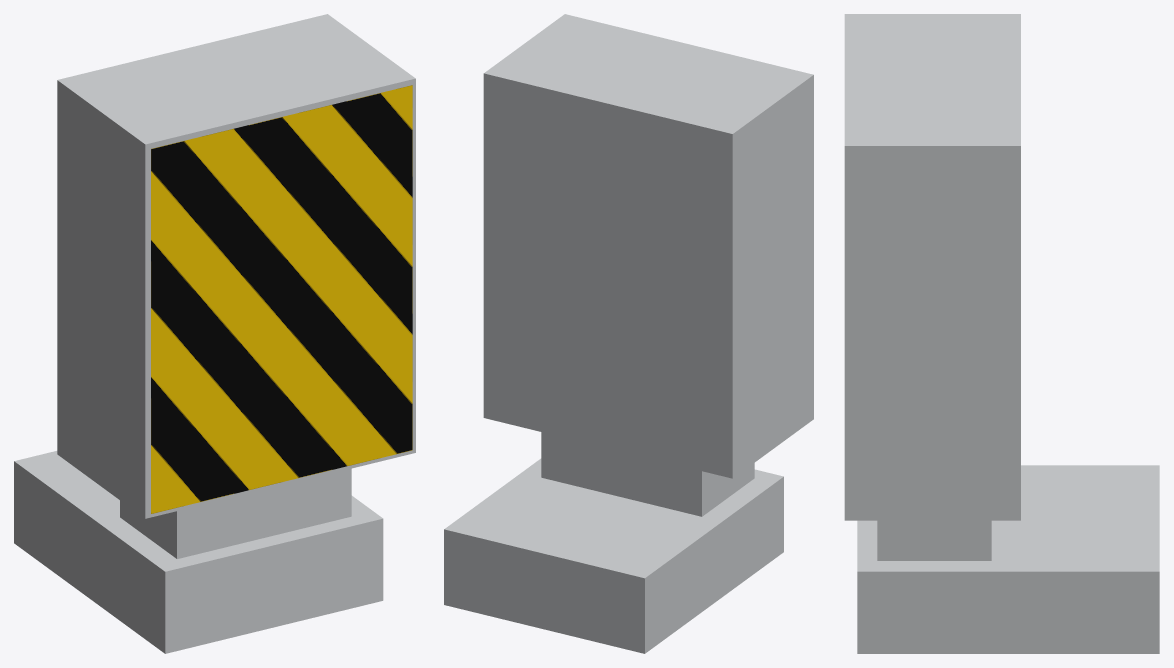
File: Gore-Tip.glb
3 views of the same model, side by side, from view 1: azimuth 30°, elevation 25°; view 2: azimuth 150°, elevation 25°; view 3: azimuth 270°, elevation 25° (orthographic). The views are drawn at different scales.
Parts seen in each view (by area): view 1: Gore-Tip; view 2: Gore-Tip; view 3: Gore-Tip.
Part boxes in pixels (<box>): Gore-Tip: <box>14,14,415,653</box>; Gore-Tip: <box>444,14,813,653</box>; Gore-Tip: <box>844,14,1159,653</box>.
Size of the model in its own units: 0.62 by 1.14 by 0.63.
Materials: 2 (1 with a texture image).
